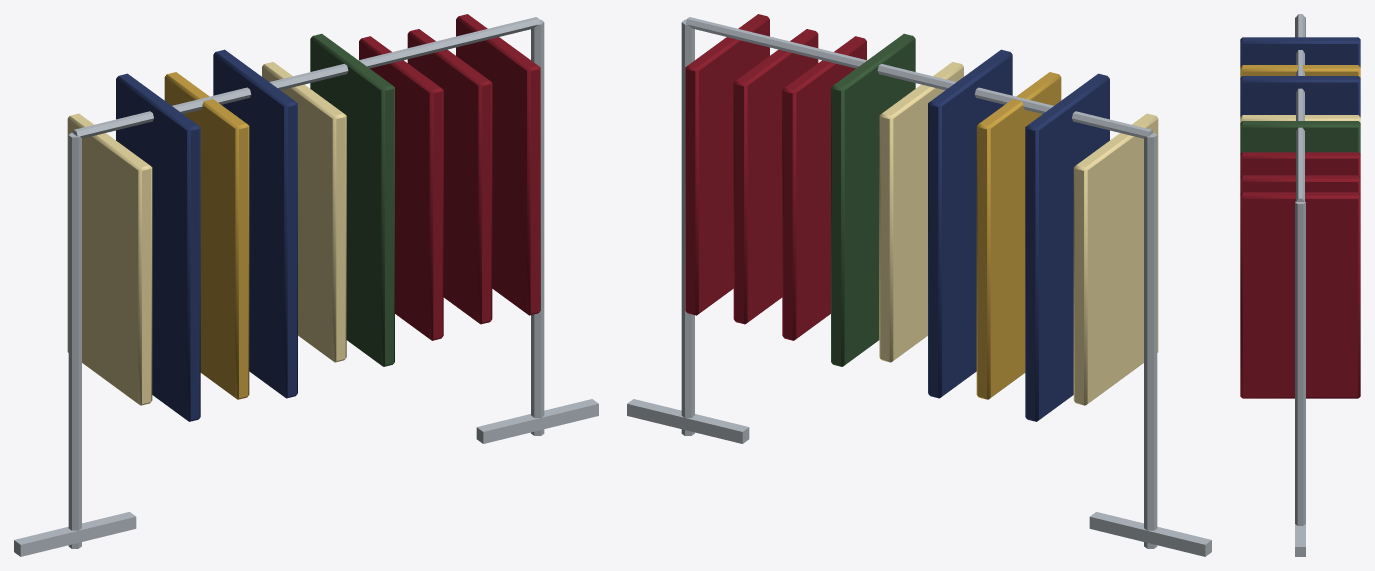
File: costume_rail.glb
3 renders of one model, left to right at view 1: azimuth 30°, elevation 25°; view 2: azimuth 150°, elevation 25°; view 3: azimuth 270°, elevation 25°, orthographic. The views are drawn at different scales.
Parts seen in each view (by area): view 1: costume_rail; view 2: costume_rail; view 3: costume_rail.
Part boxes in pixels (box(x1,y1,x2,y2)): costume_rail: box(14, 14, 598, 556); costume_rail: box(627, 14, 1211, 556); costume_rail: box(1240, 14, 1360, 556).
Bounding box in the file's own units: 2.5 × 1.76 × 0.55.
